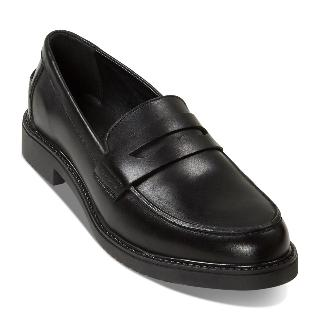loafers: (19, 25, 308, 297)
